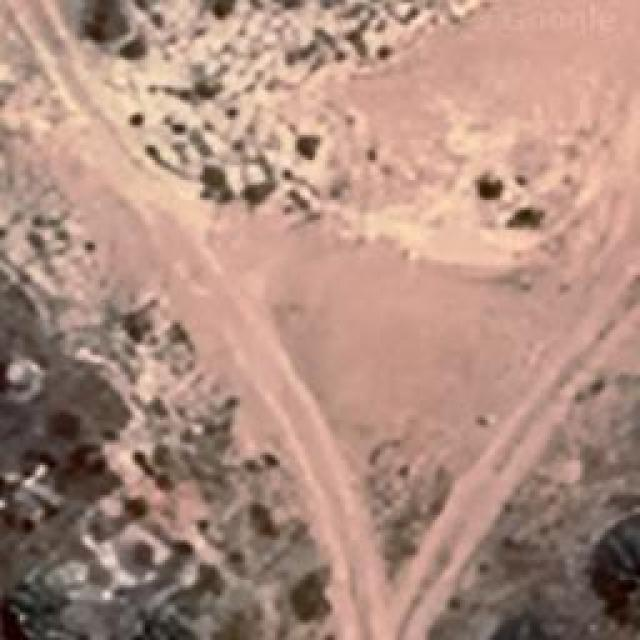PalmTree: (582, 509, 640, 640), (0, 575, 72, 640)
